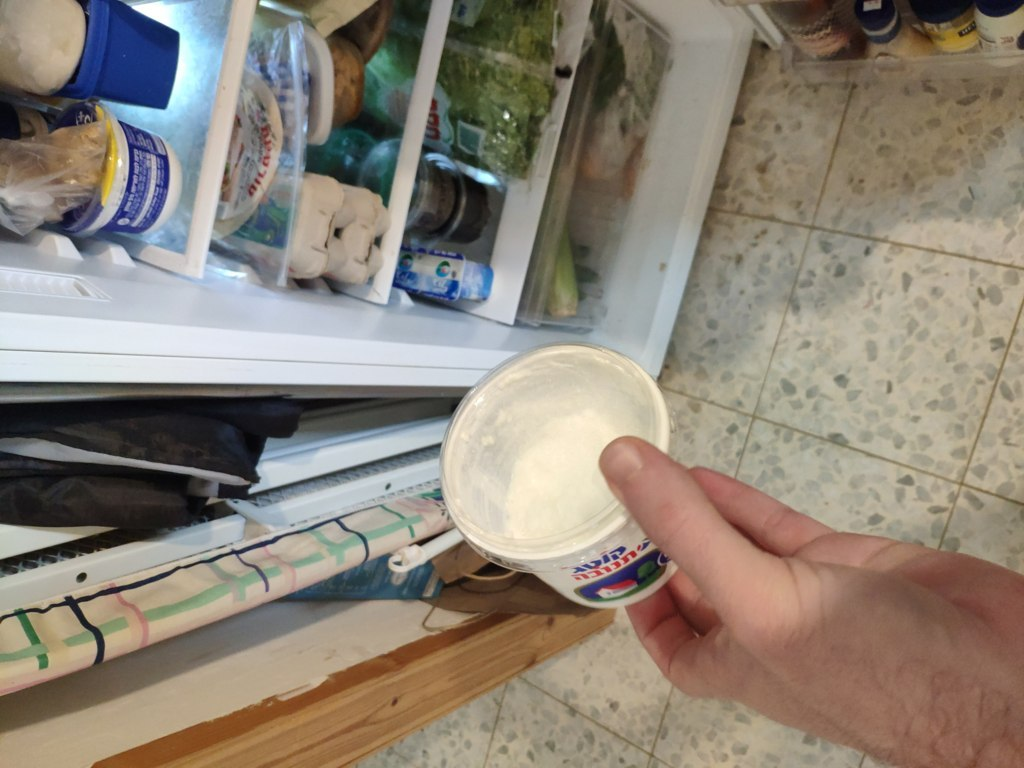Cotage: (415, 340, 700, 621)
